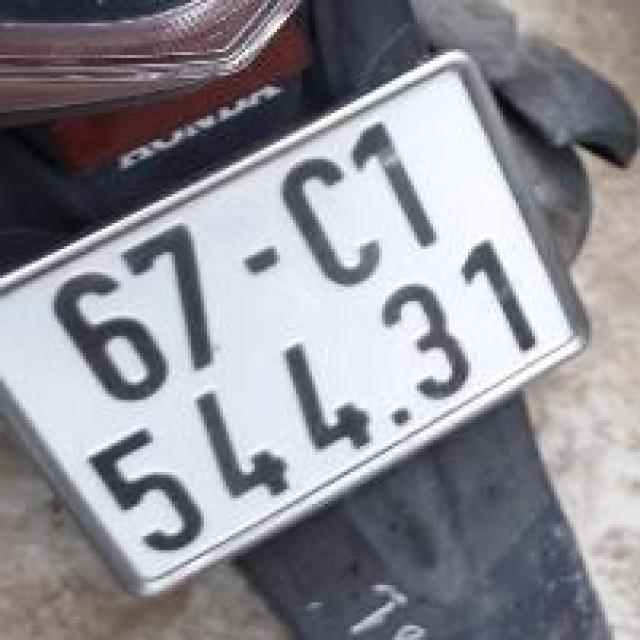1: (327, 101, 474, 270), (444, 230, 563, 362)
3: (361, 264, 488, 420)
4: (172, 367, 311, 519), (261, 326, 394, 472)
5: (68, 413, 229, 572)
6: (35, 257, 191, 425)
7: (104, 212, 249, 387)
C: (263, 141, 416, 311)
